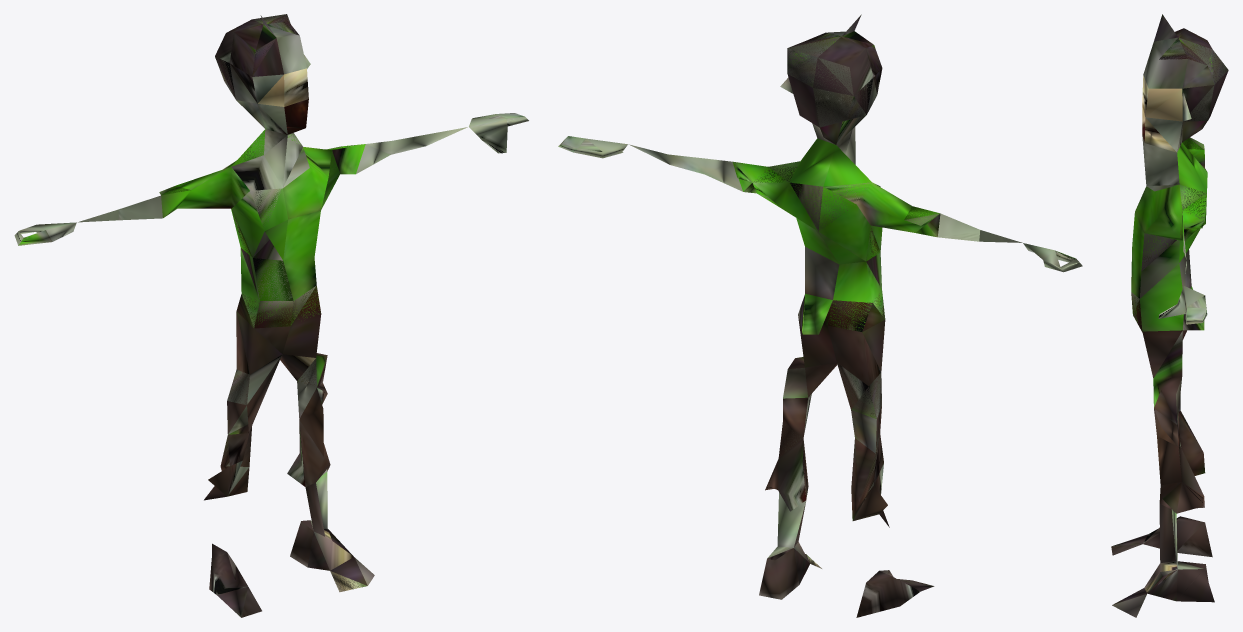
The model's file is zombie-lo.glb.
3 views of the same model, side by side, from view 1: azimuth 30°, elevation 25°; view 2: azimuth 150°, elevation 25°; view 3: azimuth 270°, elevation 25° (orthographic). The views are drawn at different scales.
Bounding box in the file's own units: 0.8767 × 0.9453 × 0.1803.
1 material, 1 textured.
